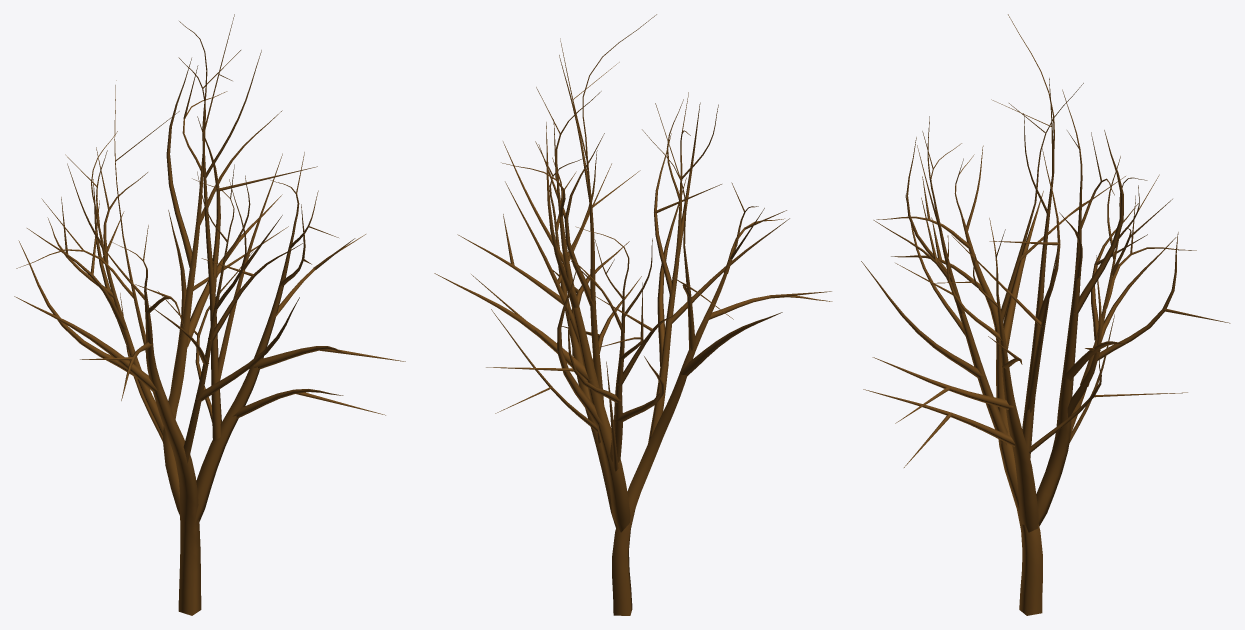
Rendered from Tree_L.fbx.
The picture shows the model from 3 angles, left to right: view 1: azimuth 30°, elevation 25°; view 2: azimuth 150°, elevation 25°; view 3: azimuth 270°, elevation 25°; orthographic projection. The views are drawn at different scales.
Visible parts, largest first — view 1: Tree_L_Baked; view 2: Tree_L_Baked; view 3: Tree_L_Baked.
Boxes of the visible parts, left/top/right/bottom form: Tree_L_Baked: left=14, top=14, right=405, bottom=615; Tree_L_Baked: left=434, top=14, right=832, bottom=615; Tree_L_Baked: left=861, top=14, right=1230, bottom=615.
Bounding box in the file's own units: 364 × 615 × 351.
